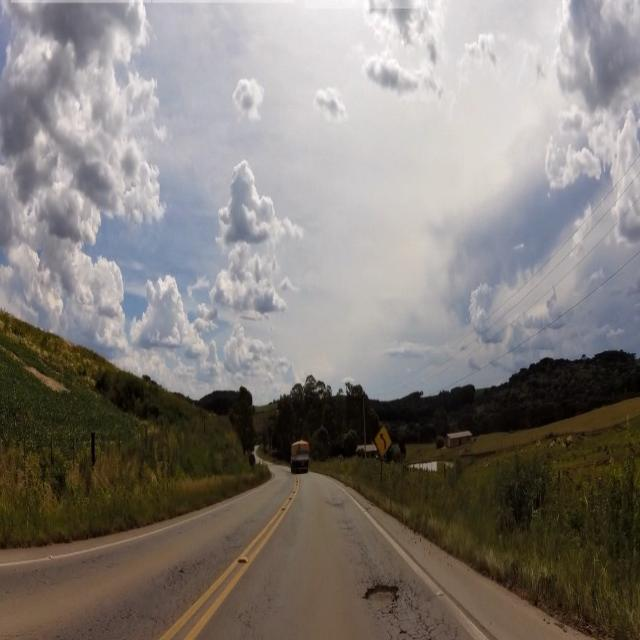A-2a: (375, 422, 393, 466)
